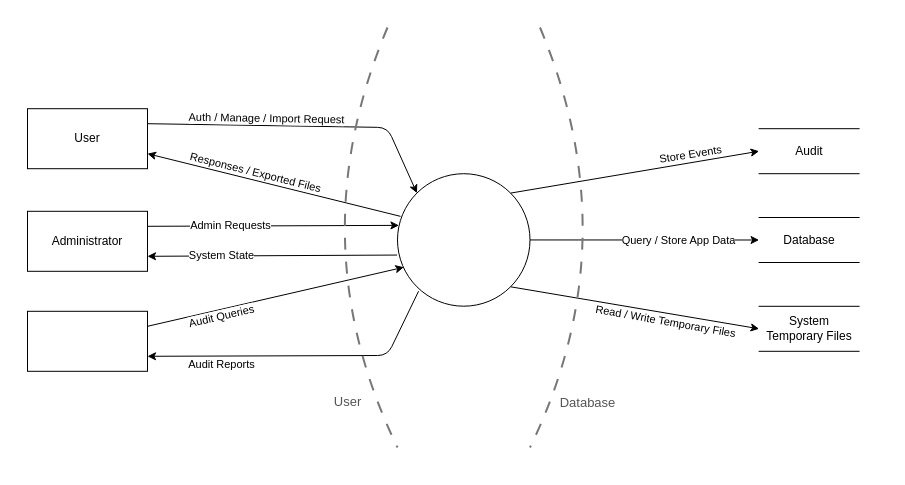
Image size: 905x485. Some labels were removed from this diagram. Here are the shapes that lost their labels. From the top down, the centre of each, then its label:
At (x=463, y=239): "Kryptos System".
At (x=87, y=340): "Auditor".
